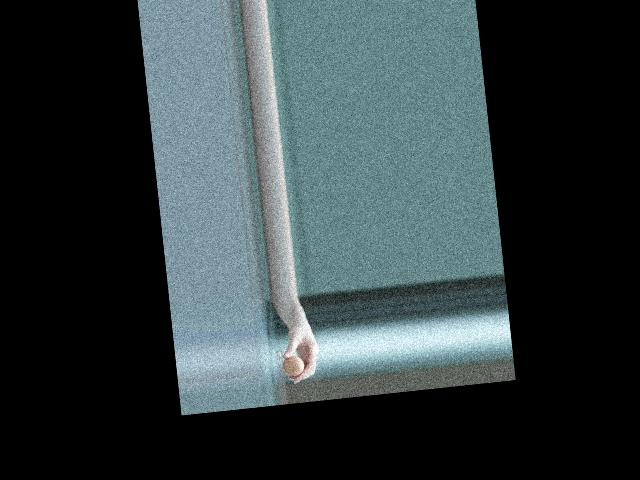egg: (281, 354, 305, 377)
